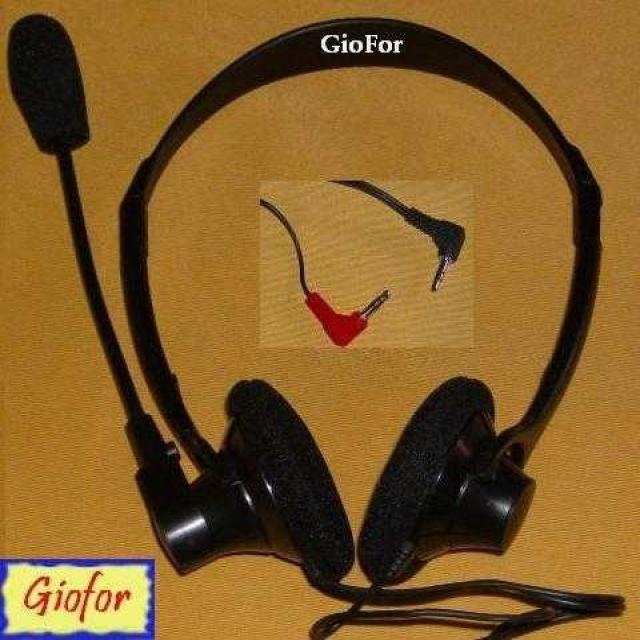microphone: (8, 11, 90, 160)
